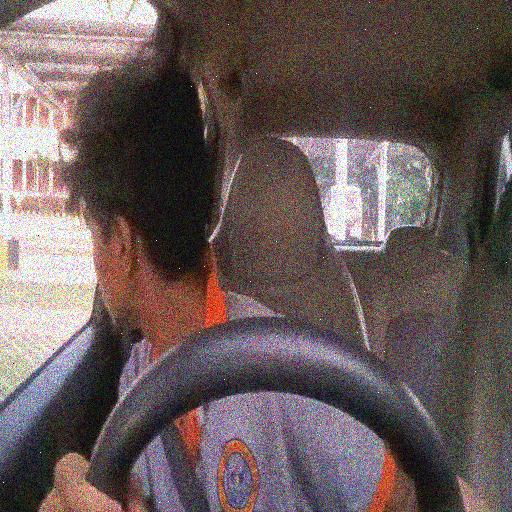Reaching_behind: (61, 59, 301, 512)
